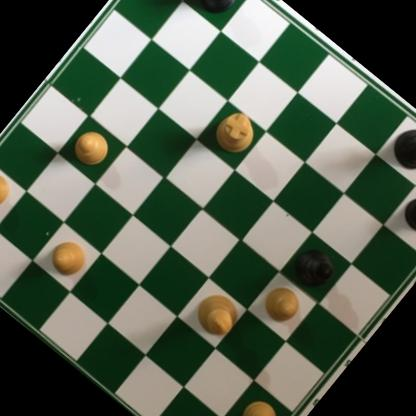black-bishop: (286, 241, 340, 296)
black-king: (384, 111, 416, 183)
black-pawn: (397, 186, 416, 241)
black-rook: (187, 0, 253, 21)
white-king: (187, 284, 248, 345)
white-pawn: (65, 121, 119, 176), (43, 231, 95, 283), (257, 279, 308, 330), (232, 393, 286, 416), (0, 161, 19, 217)
white-rook: (206, 103, 263, 161)
